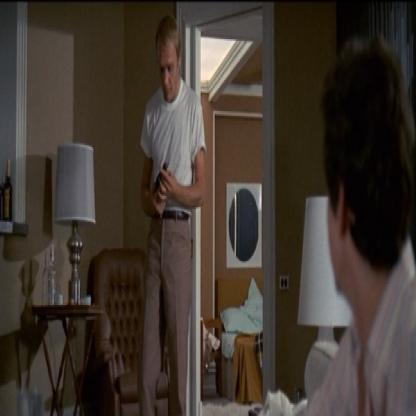Gun: (152, 158, 170, 191)
